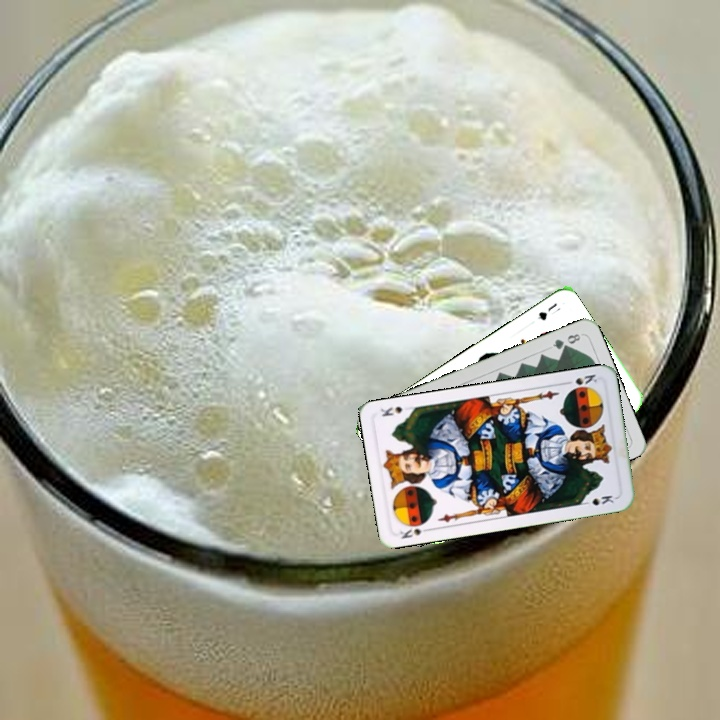G8: (548, 329, 585, 352)
GU: (534, 299, 563, 323)
SK: (396, 518, 434, 542), (560, 370, 600, 387)
